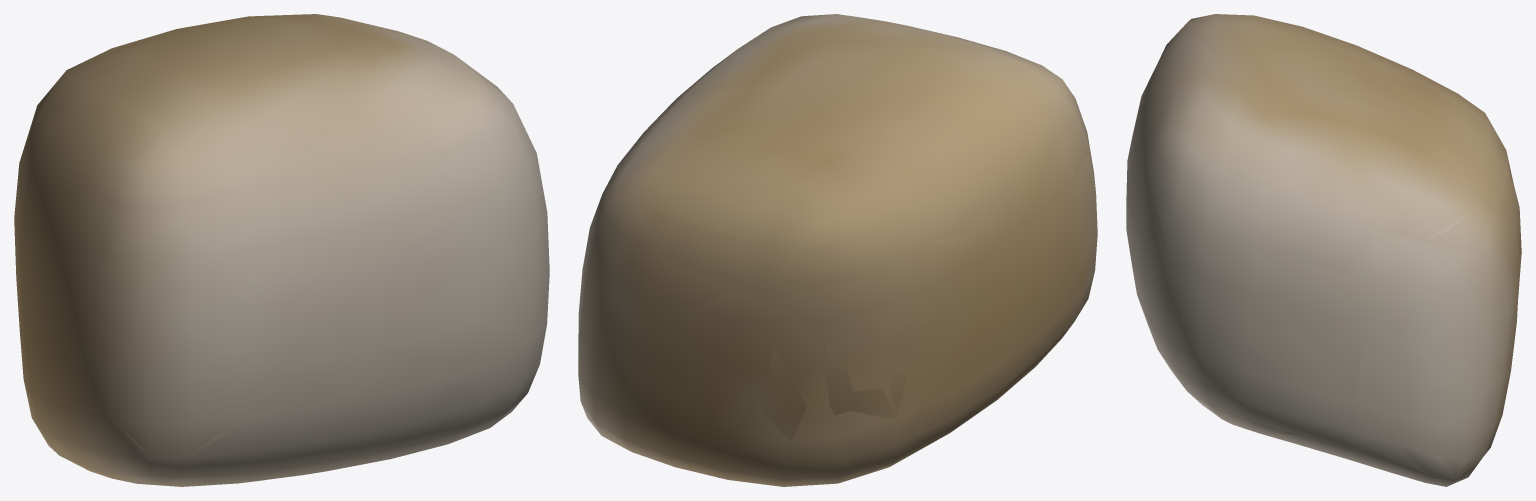
The model's file is R tarsi tertium.fbx.
3 renders of one model, left to right at view 1: azimuth 30°, elevation 25°; view 2: azimuth 150°, elevation 25°; view 3: azimuth 270°, elevation 25°, orthographic. The views are drawn at different scales.
Parts seen in each view (by area): view 1: R tarsi tertium, R tarsi tertium low; view 2: R tarsi tertium, R tarsi tertium low; view 3: R tarsi tertium, R tarsi tertium low.
Part boxes in pixels (left/top/right/bottom): R tarsi tertium: left=14, top=14, right=549, bottom=486; R tarsi tertium low: left=19, top=14, right=536, bottom=472; R tarsi tertium: left=578, top=14, right=1097, bottom=486; R tarsi tertium low: left=587, top=49, right=1088, bottom=486; R tarsi tertium: left=1126, top=14, right=1521, bottom=486; R tarsi tertium low: left=1138, top=23, right=1515, bottom=479.
Bounding box in the file's own units: 1.12 × 1.01 × 1.01.
